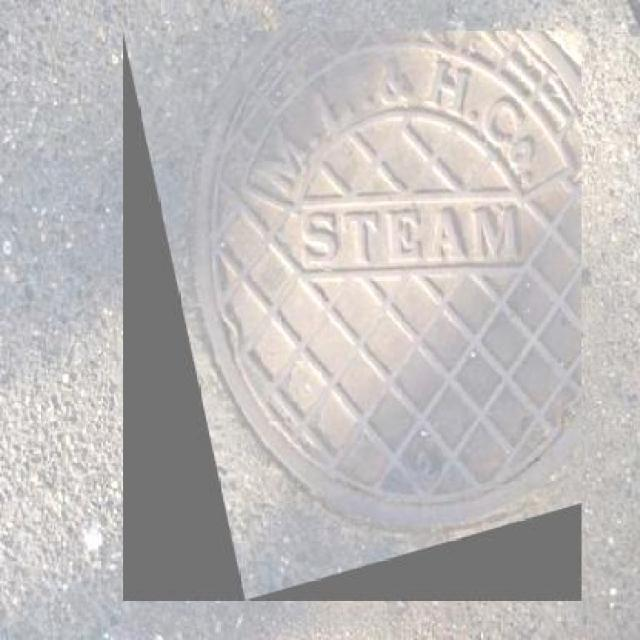Manhole: (123, 31, 582, 600)
